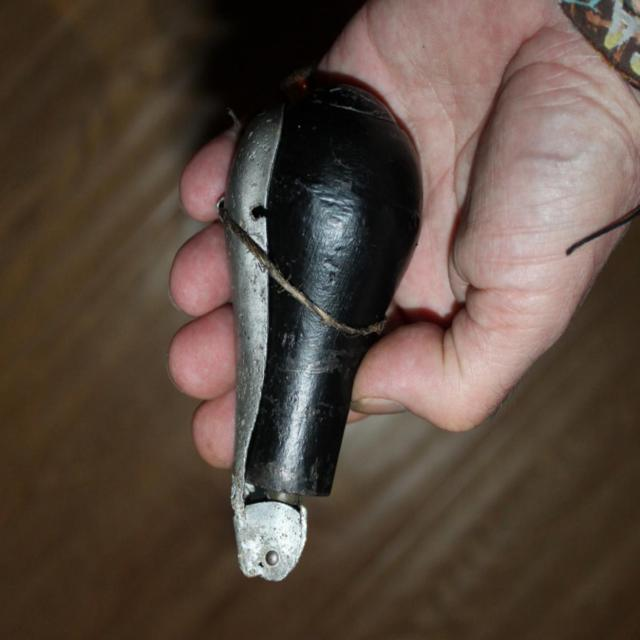grenade: (224, 71, 426, 585)
